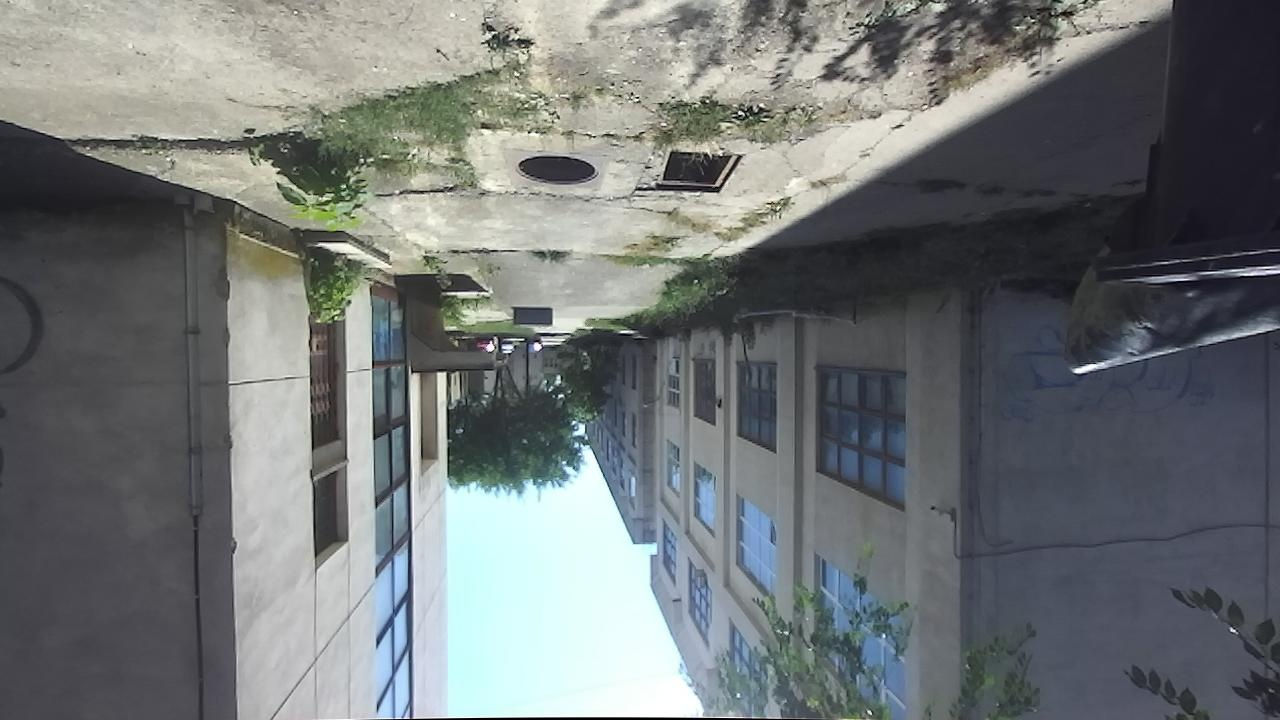drain: (649, 146, 748, 196), (510, 151, 606, 191)
